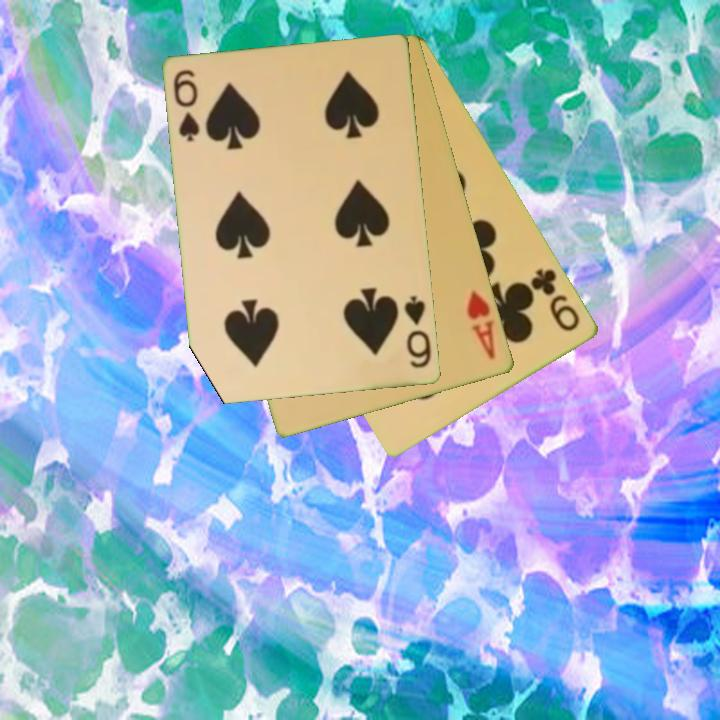6s: (401, 293, 435, 371), (170, 66, 203, 145)
9c: (528, 264, 583, 335)
Ah: (464, 287, 499, 363)
